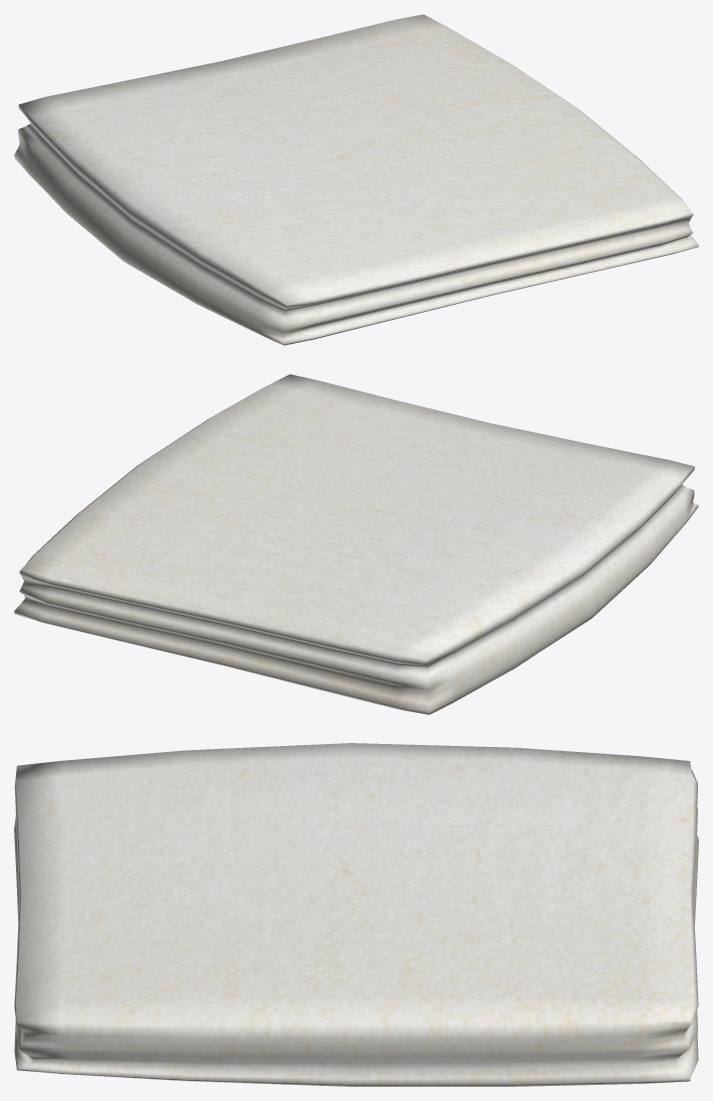
The model's file is bolsa.fbx.
The picture shows the model from 3 angles, top to bottom: view 1: azimuth 30°, elevation 25°; view 2: azimuth 150°, elevation 25°; view 3: azimuth 270°, elevation 25°; orthographic projection. The views are drawn at different scales.
Visible parts, largest first — view 1: bolsa; view 2: bolsa; view 3: bolsa.
Boxes of the visible parts, bbox=[...] form: bolsa: bbox=[14, 14, 698, 345]; bolsa: bbox=[14, 374, 698, 714]; bolsa: bbox=[14, 743, 698, 1086].
Size of the model in its own units: 212 by 28.95 by 218.
Materials: 2 (2 with a texture image).
